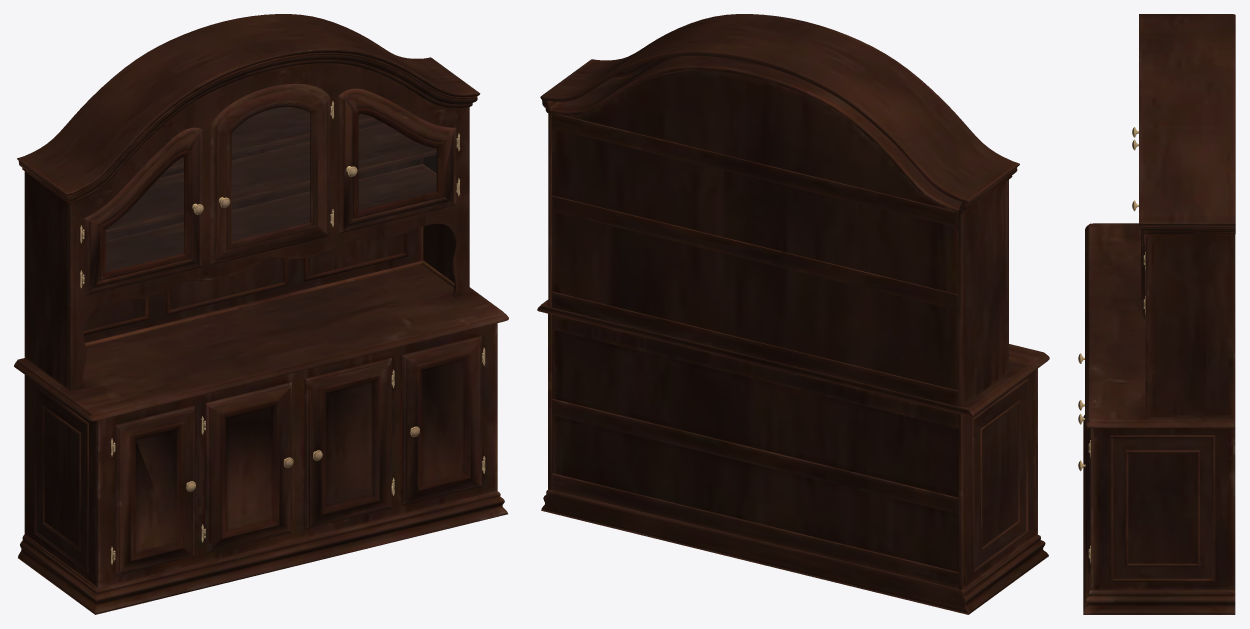
The model's file is vintage_cabinet_01.glb.
3 views of the same model, side by side, from view 1: azimuth 30°, elevation 25°; view 2: azimuth 150°, elevation 25°; view 3: azimuth 270°, elevation 25° (orthographic). The views are drawn at different scales.
Visible parts, largest first — view 1: vintage_cabinet_01_body, vintage_cabinet_01_door_01; view 2: vintage_cabinet_01_body; view 3: vintage_cabinet_01_body.
Boxes of the visible parts, x1,y1,x2,y2 form: vintage_cabinet_01_body: (14, 14, 508, 614); vintage_cabinet_01_door_01: (106, 107, 436, 271); vintage_cabinet_01_body: (537, 14, 1049, 614); vintage_cabinet_01_body: (1078, 14, 1235, 614).
Size of the model in its own units: 2.02 by 2.24 by 0.6698.
3 materials, 2 textured.
